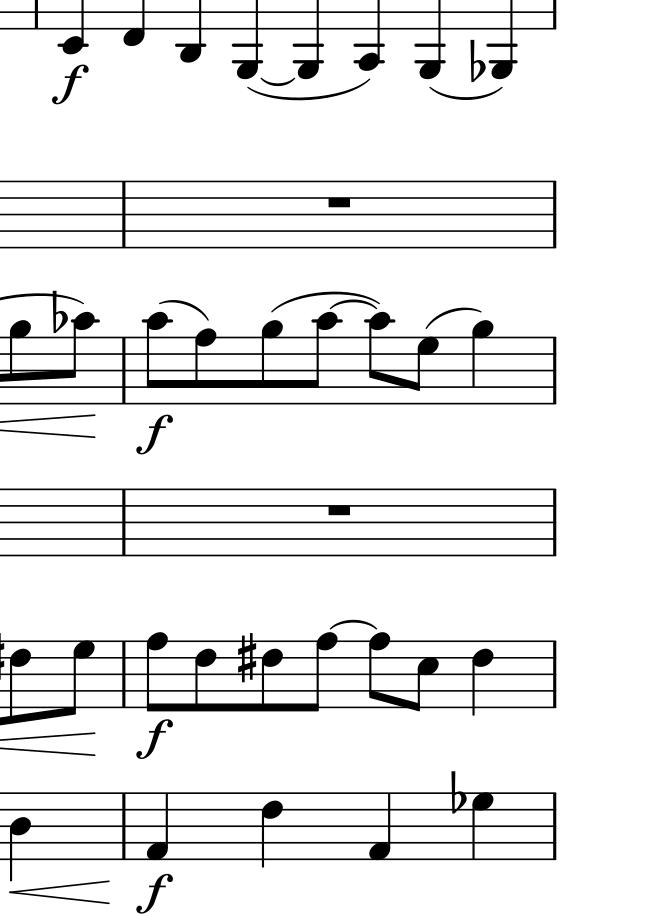4_1: (368, 791, 396, 863), (146, 789, 170, 861)
4_4: (8, 790, 34, 884)
4_6: (259, 791, 285, 869), (470, 639, 495, 720)
4_7: (470, 791, 495, 863)
4_9: (470, 319, 495, 408)
8_10: (307, 311, 343, 407), (364, 311, 396, 407), (67, 311, 99, 407), (144, 311, 170, 407)
8_5: (408, 638, 441, 713)
8_6: (7, 639, 33, 724), (191, 639, 218, 716), (261, 638, 285, 715)
8_7: (63, 638, 98, 720), (407, 334, 437, 407)
8_8: (303, 632, 340, 714), (192, 327, 219, 407), (144, 631, 170, 712), (367, 631, 391, 711)
8_9: (8, 320, 34, 407), (259, 319, 283, 407)
Crescendo_hairpin: (10, 876, 113, 907)
Flat: (50, 289, 68, 333), (469, 37, 485, 83), (450, 769, 465, 814)
Rests1: (323, 501, 357, 521), (322, 194, 358, 212)
Sharp: (237, 631, 258, 683)
Single_barline: (546, 793, 563, 857), (116, 489, 132, 555), (546, 337, 562, 403), (546, 490, 562, 555), (546, 182, 562, 245), (116, 335, 131, 402), (546, 642, 562, 704), (116, 180, 131, 243), (117, 793, 131, 859)
Slur: (244, 78, 371, 100), (269, 290, 383, 312), (422, 305, 483, 330), (159, 297, 212, 322), (428, 85, 509, 100), (326, 619, 380, 631), (329, 300, 381, 310), (260, 75, 296, 86)
f: (134, 872, 177, 915), (50, 62, 91, 103), (137, 717, 174, 762), (137, 414, 173, 454)
